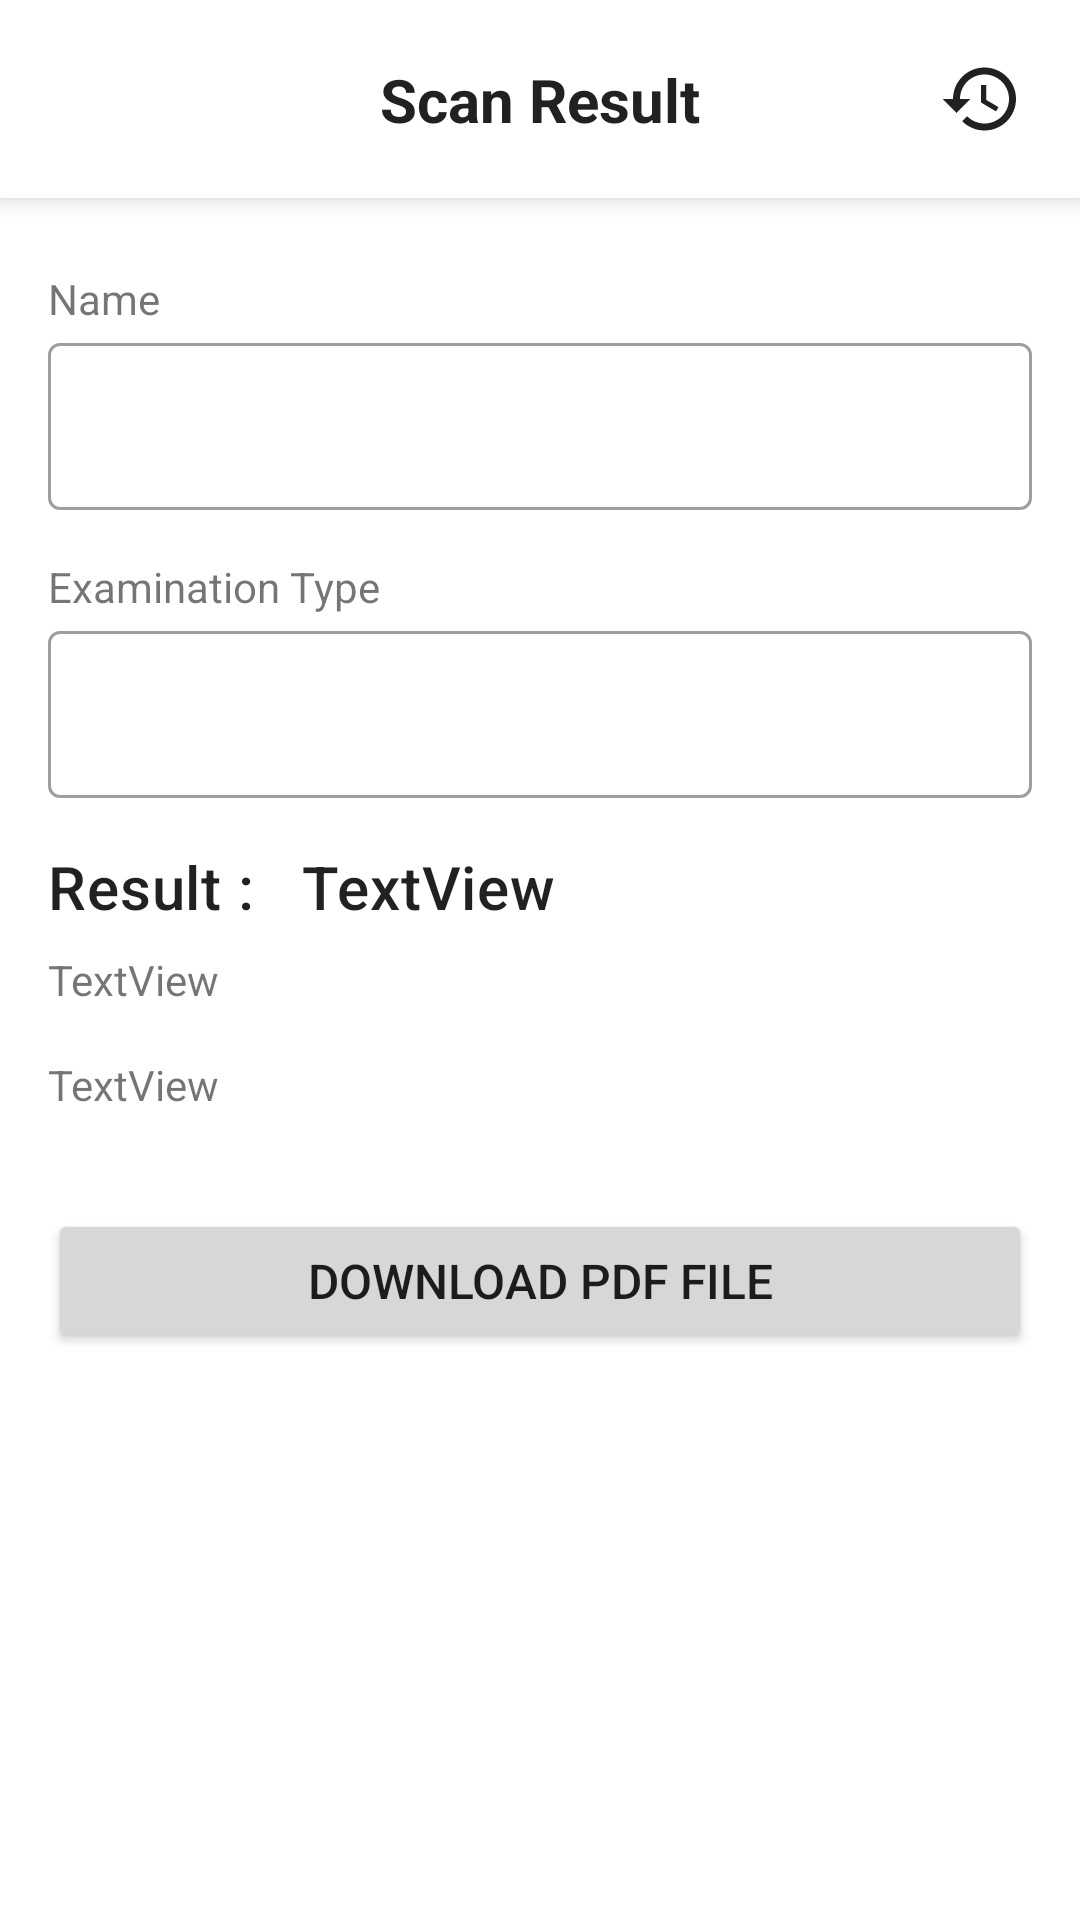

Icons on this 1080 × 1920 Android screen, each with the point to tap as (x,y):
history: (979,99)
